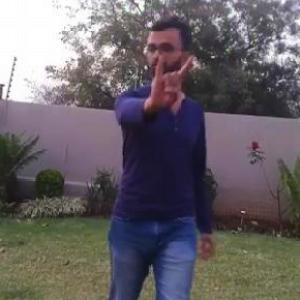takeoff-hand: (142, 48, 198, 119)
